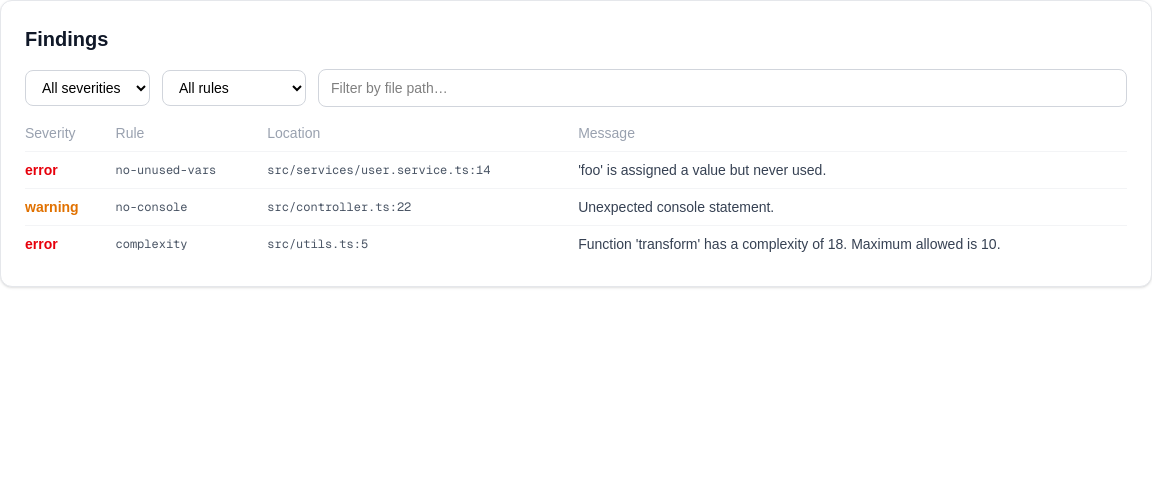
Test: FindingsExplorer › expands a finding's full detail on click
Click the text "'foo' is assigned a value but never used.": click(702, 170) [578, 152, 1127, 188]
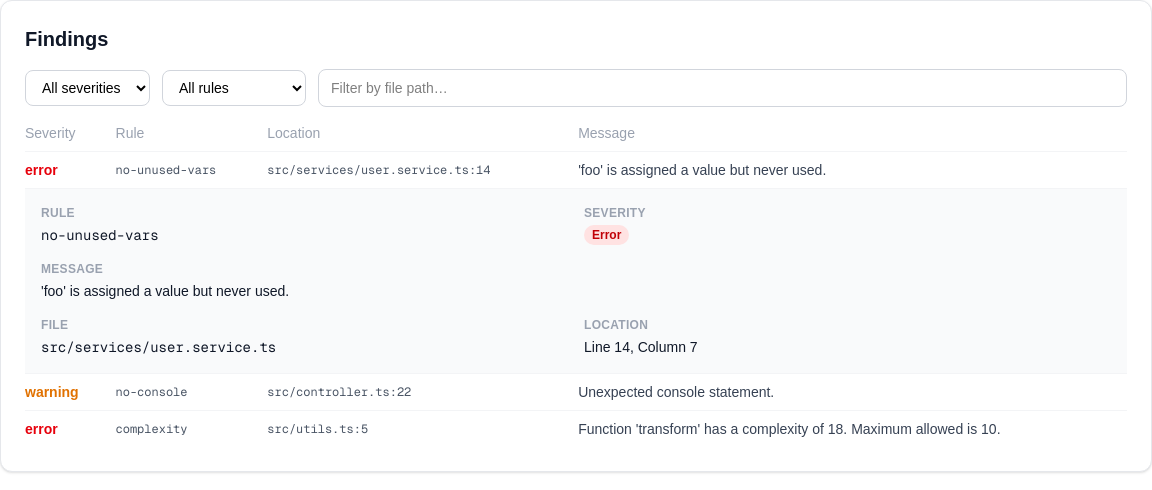
Result: the text "Line 14, Column 7" is shown at [584, 339, 698, 355]
